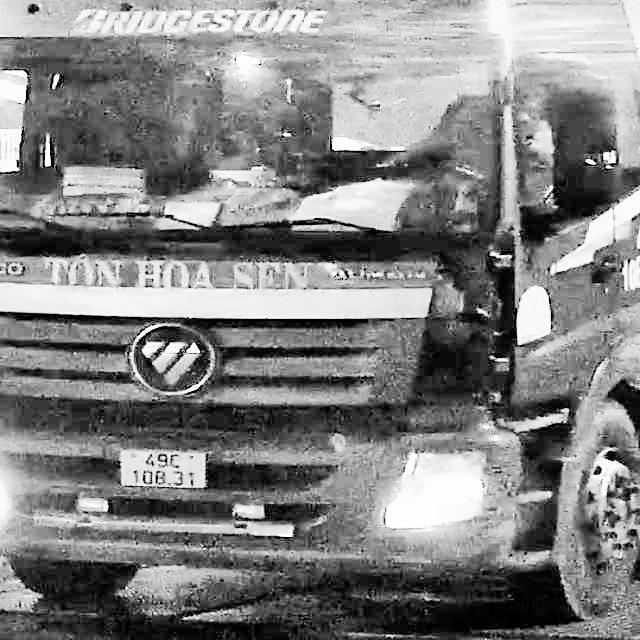Truck: (0, 0, 639, 622)
